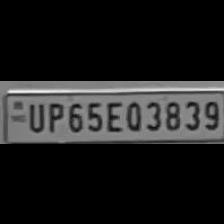3: (142, 96, 162, 130), (182, 96, 200, 130)
5: (84, 97, 103, 130)
6: (64, 98, 84, 132)
8: (162, 96, 180, 130)
9: (200, 96, 220, 128)
E: (104, 97, 122, 132)
P: (44, 99, 64, 134)
Q: (121, 97, 141, 130)
U: (24, 98, 46, 132)
